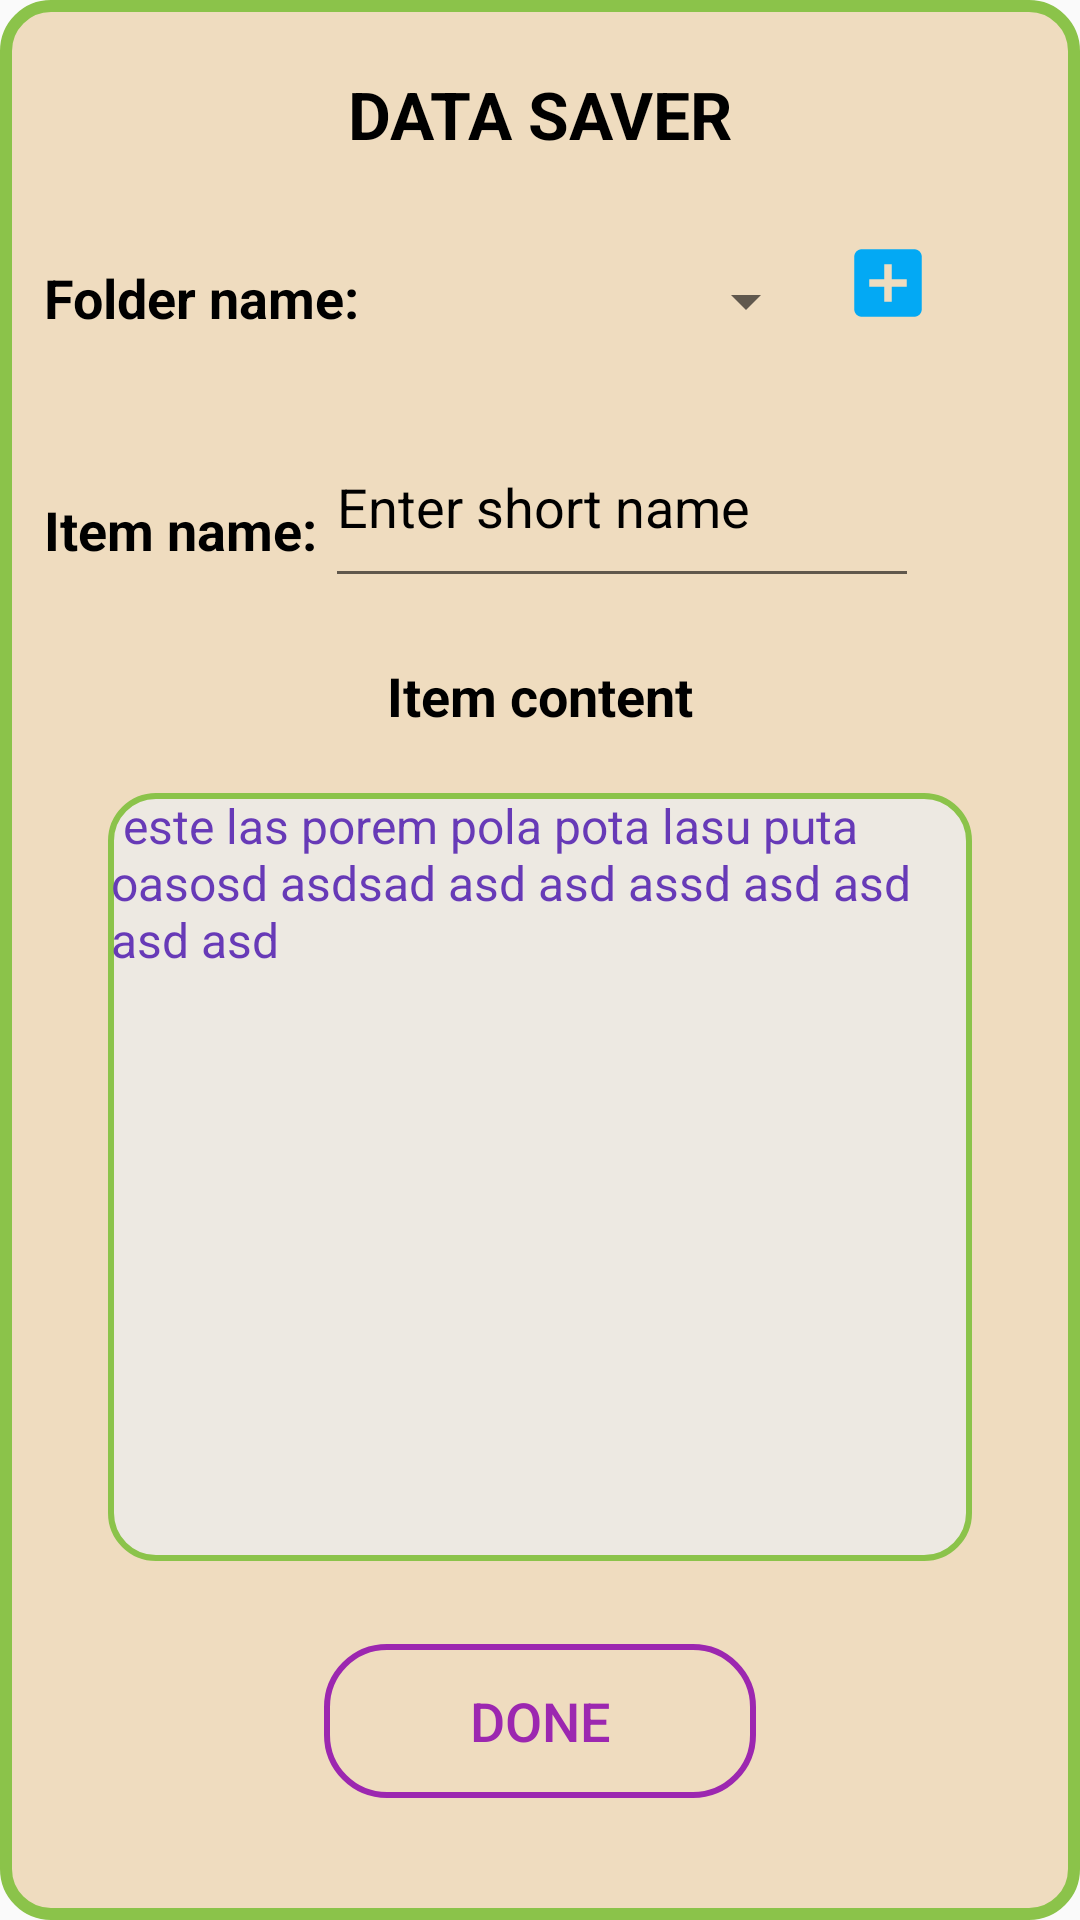

Icons on this 1080px×1920px Android screen, each with the point to tap as point (x, y):
add box: point (888, 283)
